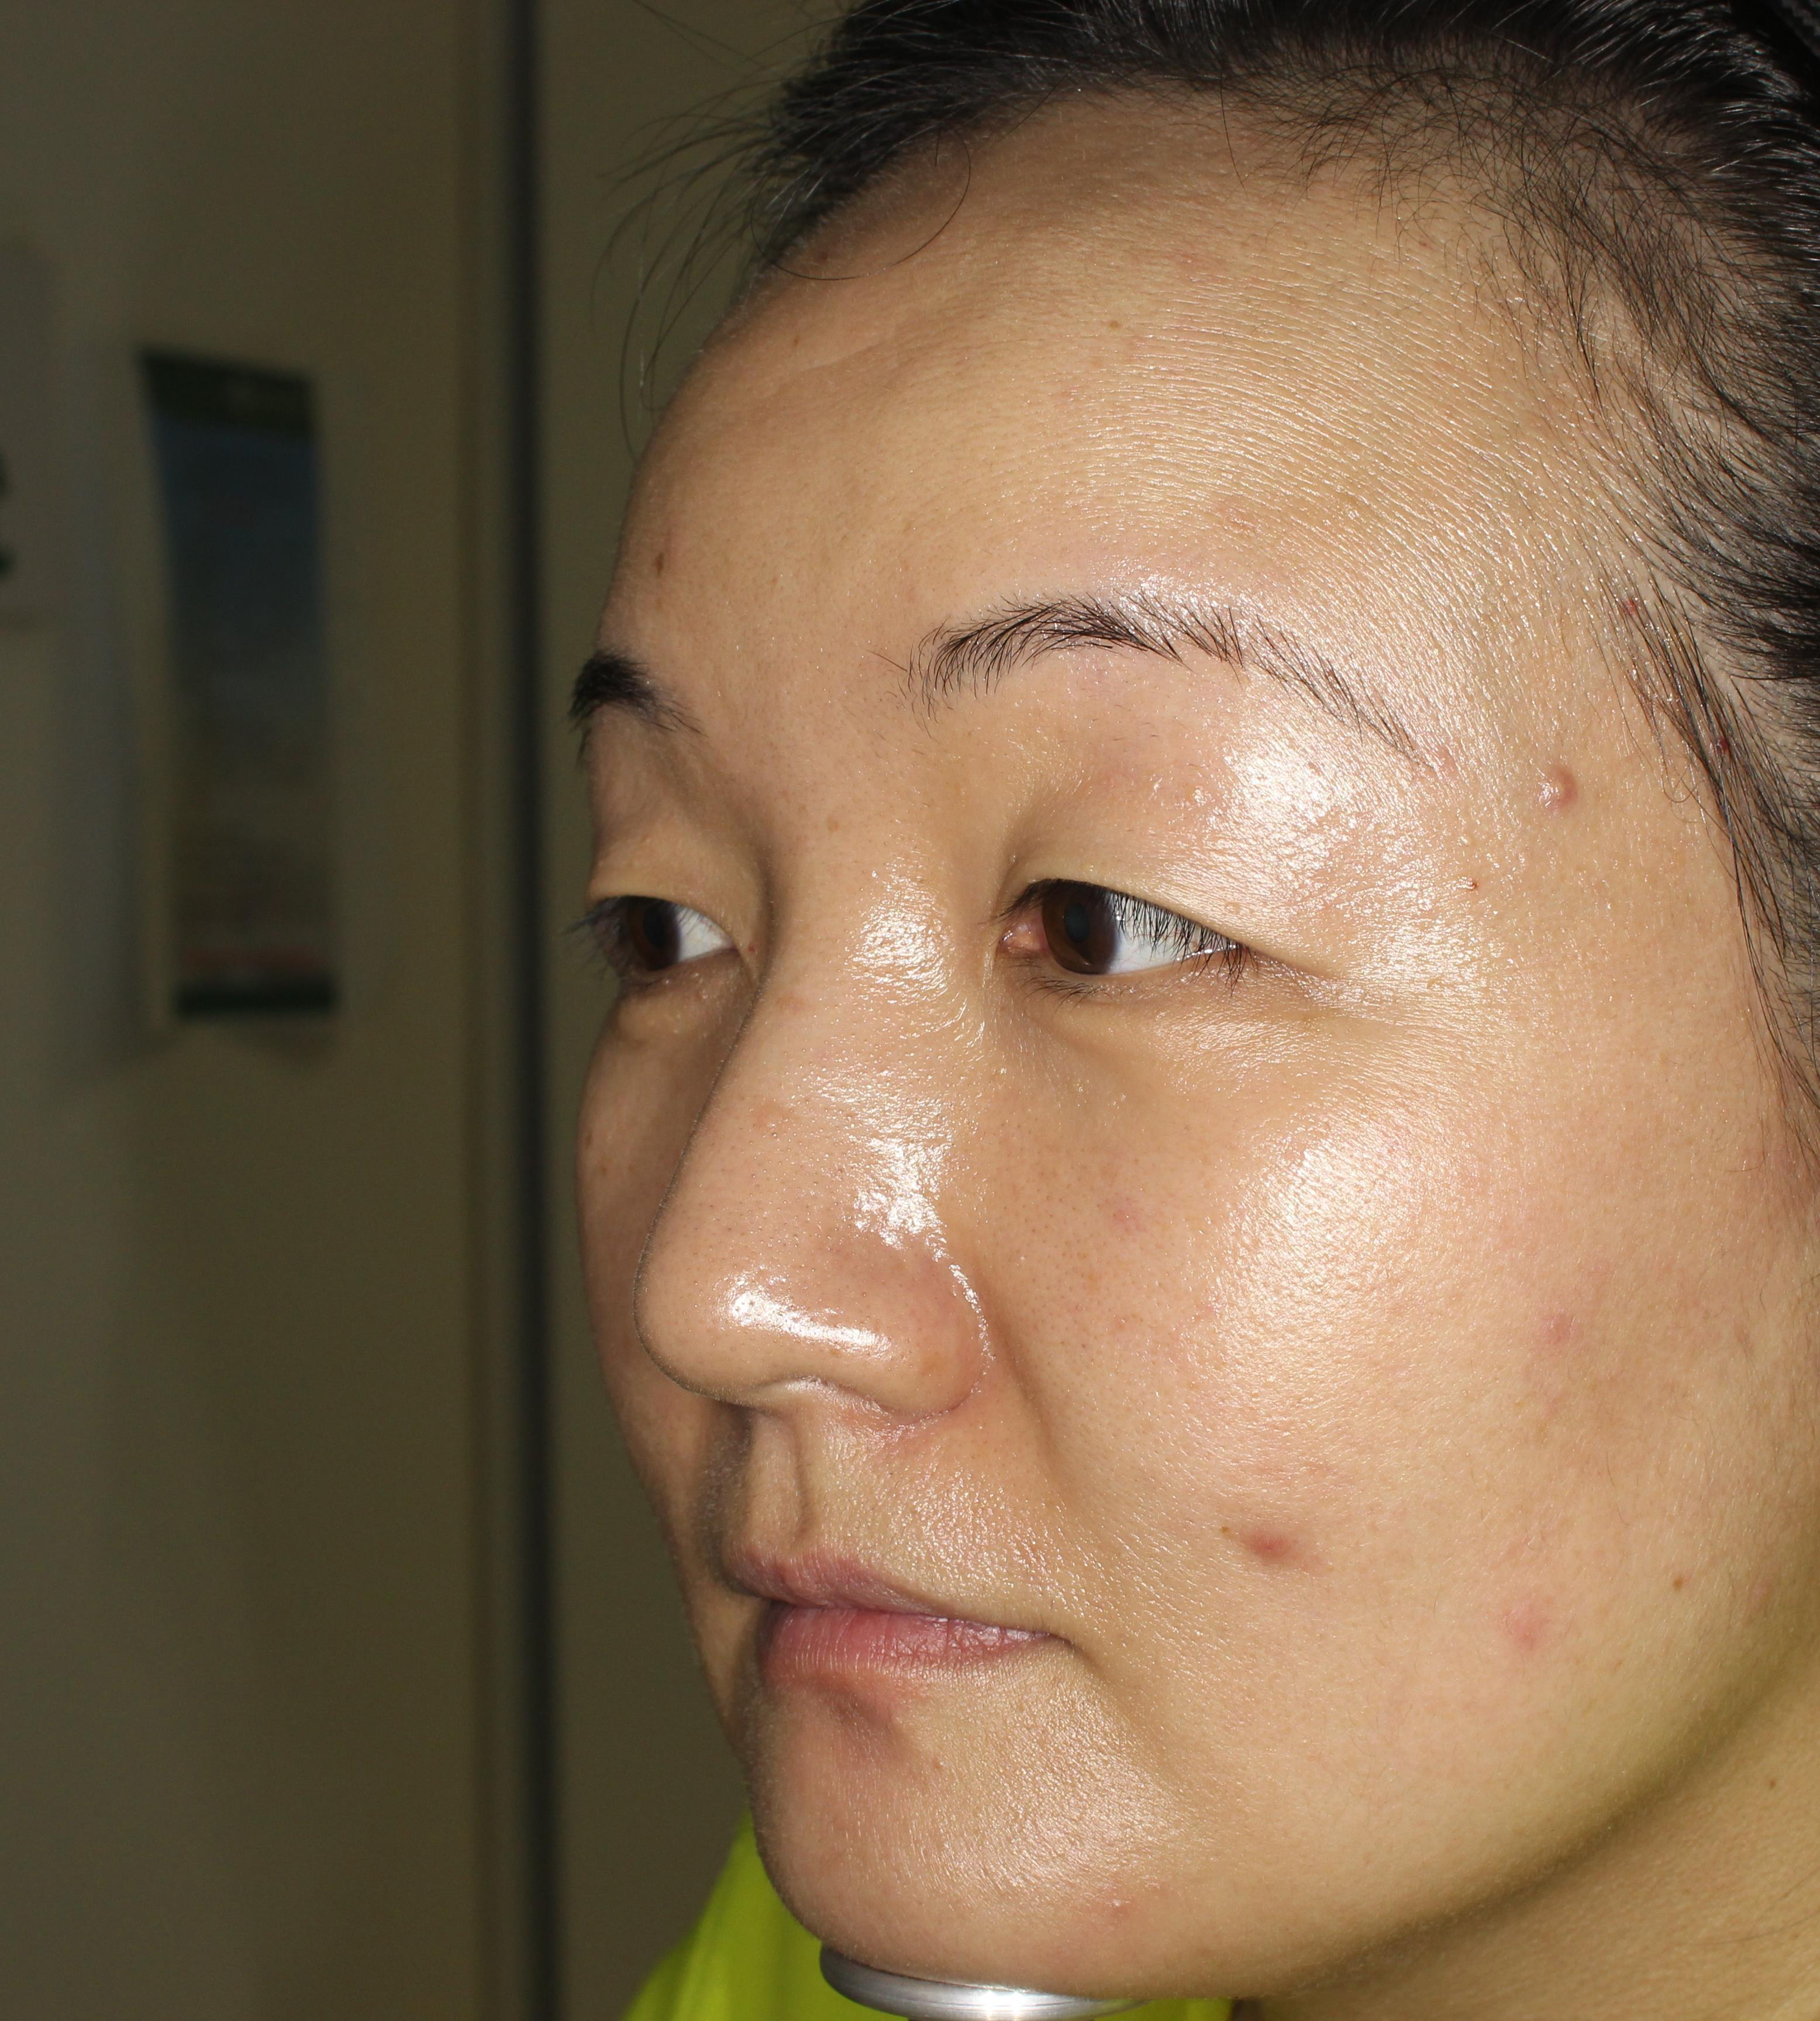fore: (1210, 1487, 1300, 1617), (1525, 743, 1614, 850), (1481, 1598, 1583, 1649)
